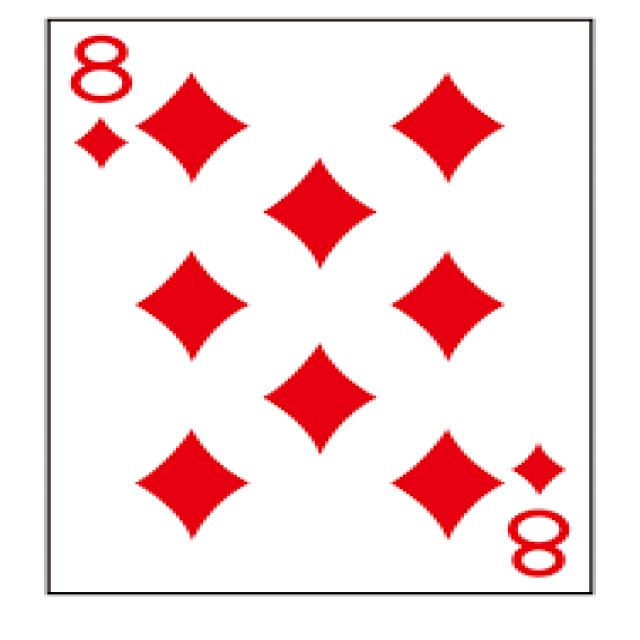R8: (0, 0, 637, 640)
